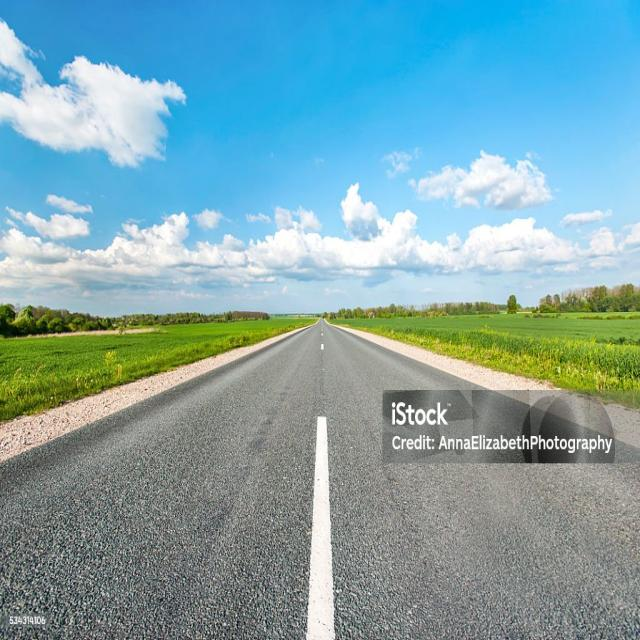Road-divider: (305, 335, 332, 640)
